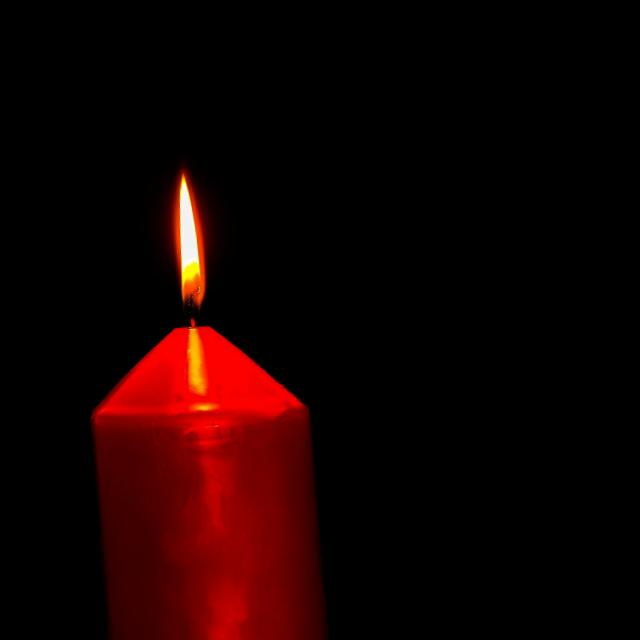Fire_Save: (67, 160, 330, 640)
